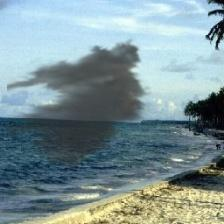fire: (7, 35, 154, 173)
